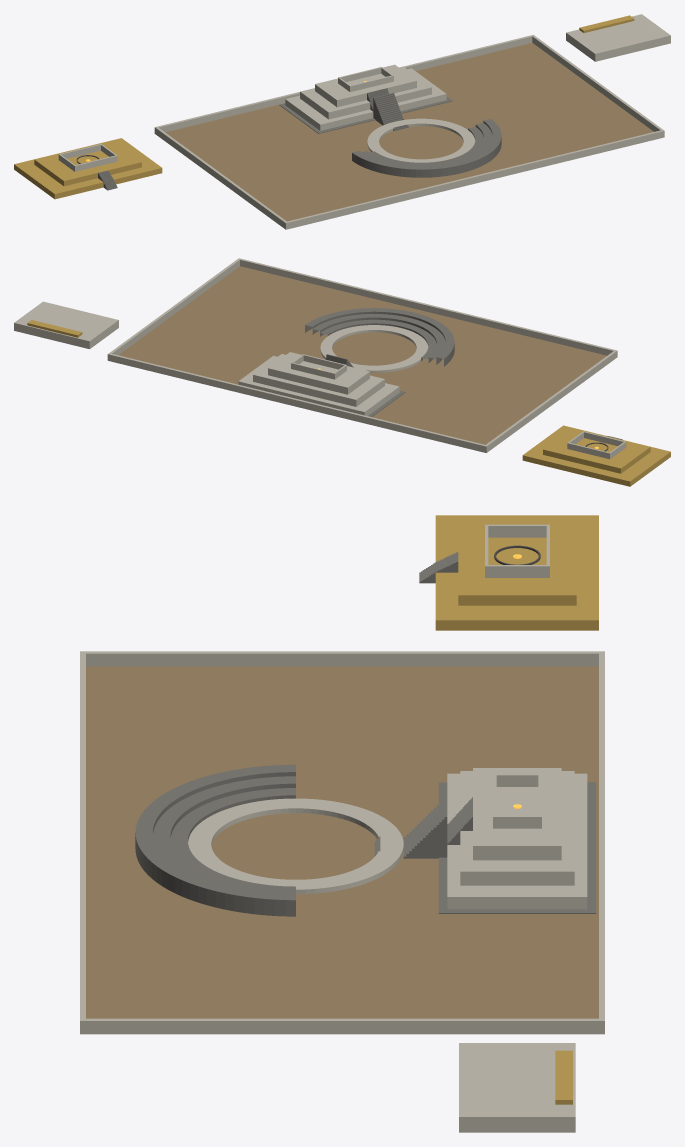
Rendered from caral_anfiteatro_lod0.glb.
3 views of the same model, one above another, from view 1: azimuth 30°, elevation 25°; view 2: azimuth 150°, elevation 25°; view 3: azimuth 270°, elevation 25° (orthographic). The views are drawn at different scales.
Visible parts, largest first — view 1: GEO-Caral_Anfiteatro_LOD0_Sand_Desert, GEO-Caral_Anfiteatro_LOD0_Plaster_White, GEO-Caral_Anfiteatro_LOD0_Stone_Granodiorite, GEO-Caral_Anfiteatro_LOD0_Plaster_Yellow; view 2: GEO-Caral_Anfiteatro_LOD0_Sand_Desert, GEO-Caral_Anfiteatro_LOD0_Plaster_White, GEO-Caral_Anfiteatro_LOD0_Plaster_Yellow, GEO-Caral_Anfiteatro_LOD0_Stone_Granodiorite; view 3: GEO-Caral_Anfiteatro_LOD0_Sand_Desert, GEO-Caral_Anfiteatro_LOD0_Plaster_White, GEO-Caral_Anfiteatro_LOD0_Stone_Granodiorite, GEO-Caral_Anfiteatro_LOD0_Plaster_Yellow.
Part boxes in pixels (x1,y1,x2,y2): GEO-Caral_Anfiteatro_LOD0_Sand_Desert: [165, 43, 653, 221]; GEO-Caral_Anfiteatro_LOD0_Plaster_White: [58, 14, 670, 229]; GEO-Caral_Anfiteatro_LOD0_Stone_Granodiorite: [98, 88, 501, 190]; GEO-Caral_Anfiteatro_LOD0_Plaster_Yellow: [14, 15, 634, 199]; GEO-Caral_Anfiteatro_LOD0_Sand_Desert: [118, 266, 606, 444]; GEO-Caral_Anfiteatro_LOD0_Plaster_White: [14, 258, 626, 459]; GEO-Caral_Anfiteatro_LOD0_Plaster_Yellow: [27, 320, 670, 486]; GEO-Caral_Anfiteatro_LOD0_Stone_Granodiorite: [238, 308, 622, 439]; GEO-Caral_Anfiteatro_LOD0_Sand_Desert: [86, 666, 598, 1018]; GEO-Caral_Anfiteatro_LOD0_Plaster_White: [80, 524, 604, 1132]; GEO-Caral_Anfiteatro_LOD0_Stone_Granodiorite: [135, 552, 596, 916]; GEO-Caral_Anfiteatro_LOD0_Plaster_Yellow: [435, 515, 598, 1104].
Bounding box in the file's own units: 19.7 × 1.02 × 7.2.
